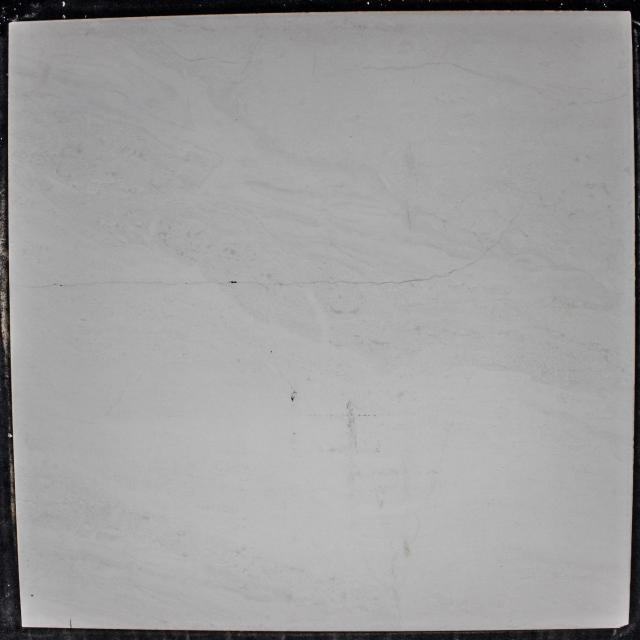edge-chipping: (618, 624, 630, 628)
hole: (290, 395, 295, 402), (230, 280, 238, 284)
line: (29, 282, 158, 288), (452, 250, 488, 270), (488, 220, 512, 249), (380, 276, 434, 285), (312, 280, 378, 286), (158, 281, 230, 285), (407, 209, 412, 230), (68, 617, 73, 628)
